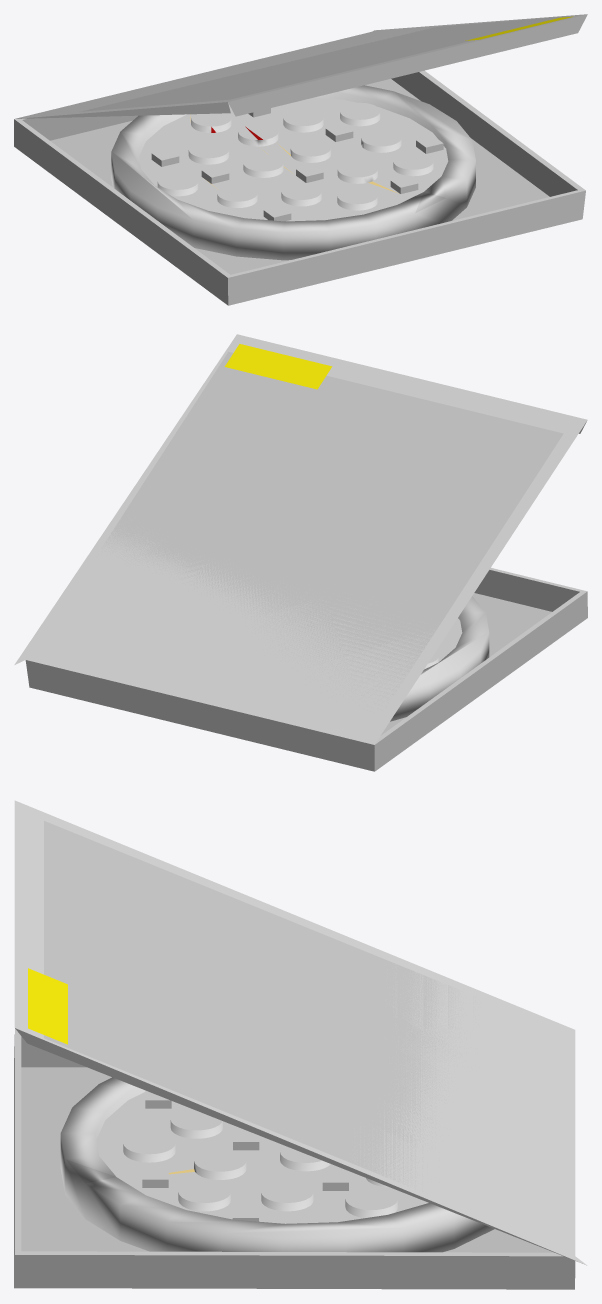
File: pizza.fbx
3 views of the same model, one above another, from view 1: azimuth 30°, elevation 25°; view 2: azimuth 150°, elevation 25°; view 3: azimuth 270°, elevation 25° (orthographic). The views are drawn at different scales.
Visible parts, largest first — view 1: SketchUp.002; view 2: SketchUp.002; view 3: SketchUp.002.
Part boxes in pixels (x1,y1,x2,y2): SketchUp.002: (14,14,587,305); SketchUp.002: (14,334,587,771); SketchUp.002: (14,800,587,1289).
Bounding box in the file's own units: 26.59 × 14.07 × 27.75.
